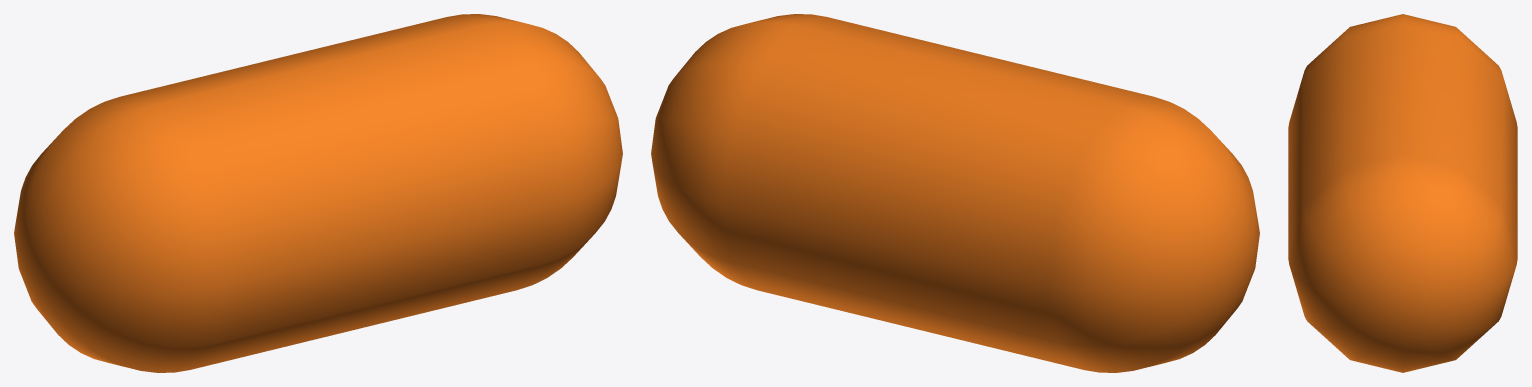
3 renders of one model, left to right at view 1: azimuth 30°, elevation 25°; view 2: azimuth 150°, elevation 25°; view 3: azimuth 270°, elevation 25°, orthographic. The views are drawn at different scales.
Visible parts, largest first — view 1: gripper_frame; view 2: gripper_frame; view 3: gripper_frame.
Part boxes in pixels (x1=…): gripper_frame: x1=14, y1=14, x2=622, y2=372; gripper_frame: x1=651, y1=14, x2=1259, y2=372; gripper_frame: x1=1288, y1=14, x2=1517, y2=372.
Bounding box in the file's own units: 0.0204 × 0.00873 × 0.00873.
